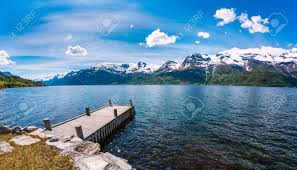mountain: (71, 54, 297, 86)
sea: (5, 86, 292, 168)
sky: (1, 1, 294, 57)
